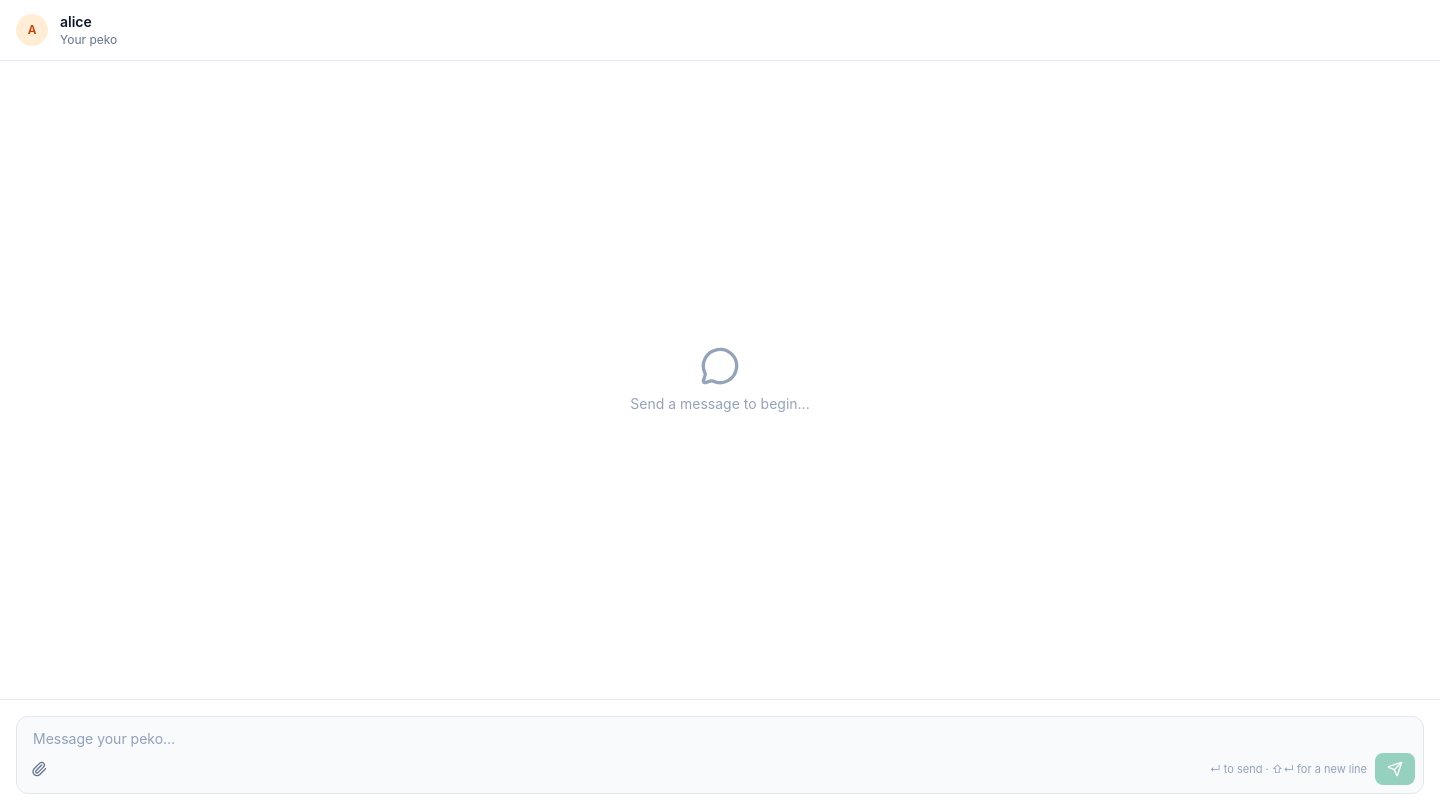
Test: Chat ToS gate › renders a [tos_required] rejection as a distinct acknowledgement notice
Type "hello" into the text box labelled "Message". click: (720, 735)
box: [17,717,1423,753]
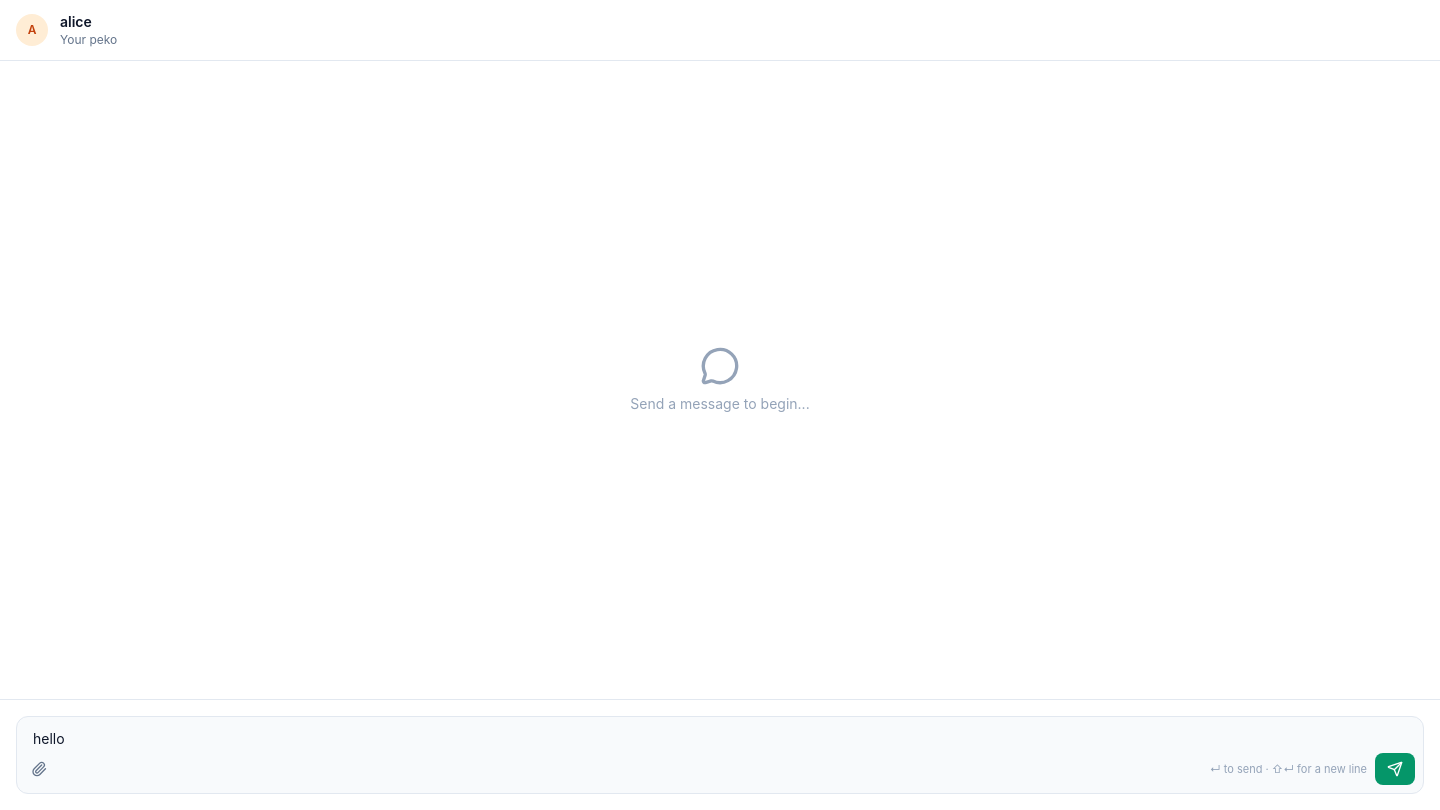
Click the button named "send". click: (1395, 769)
box: [1375,753,1415,785]
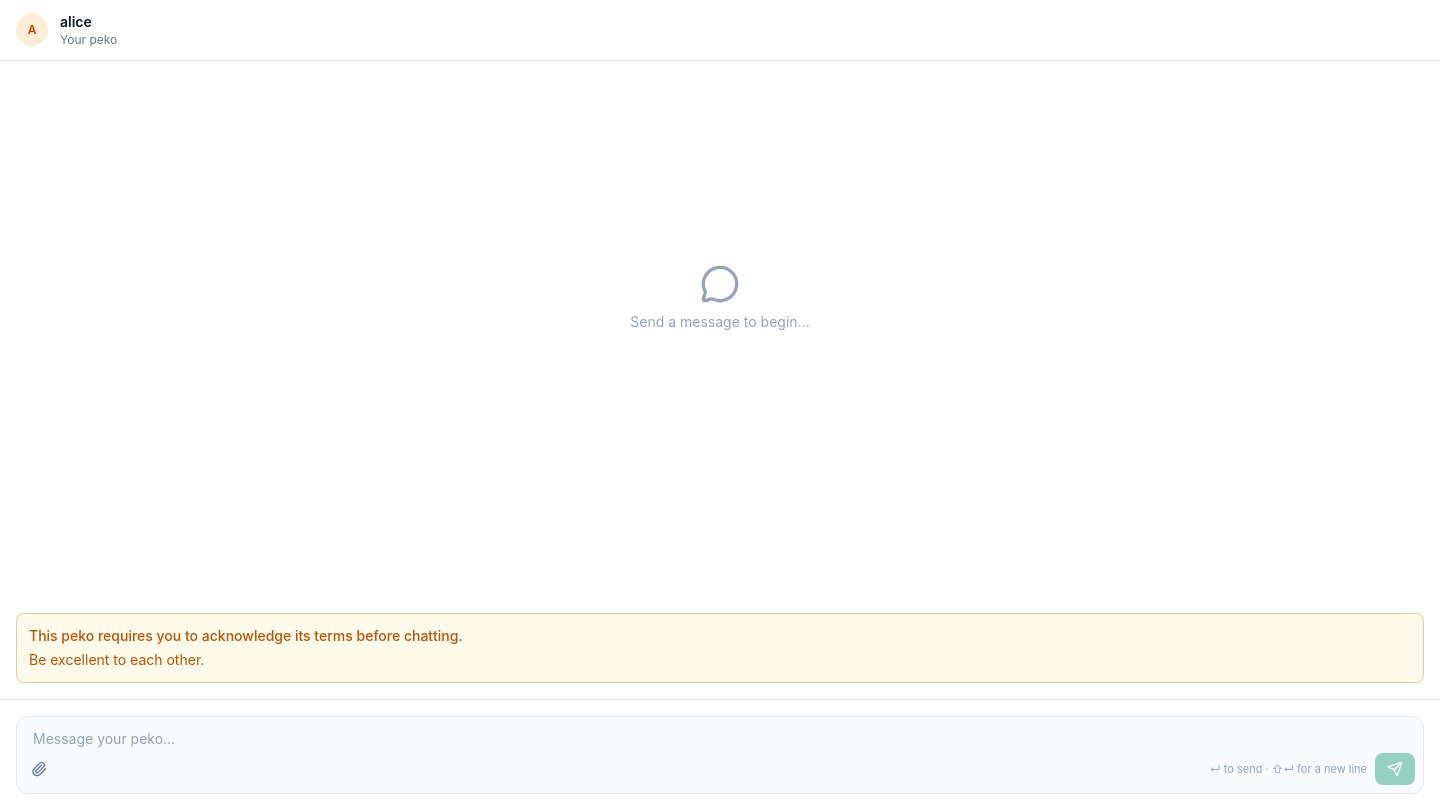
Expected: the element with test id "tos-required-notice" shows "requires you to acknowledge its terms before chatting", [29,627,463,644]
Expected: the element with test id "tos-required-notice" shows "Be excellent to each other.", [29,651,204,668]
